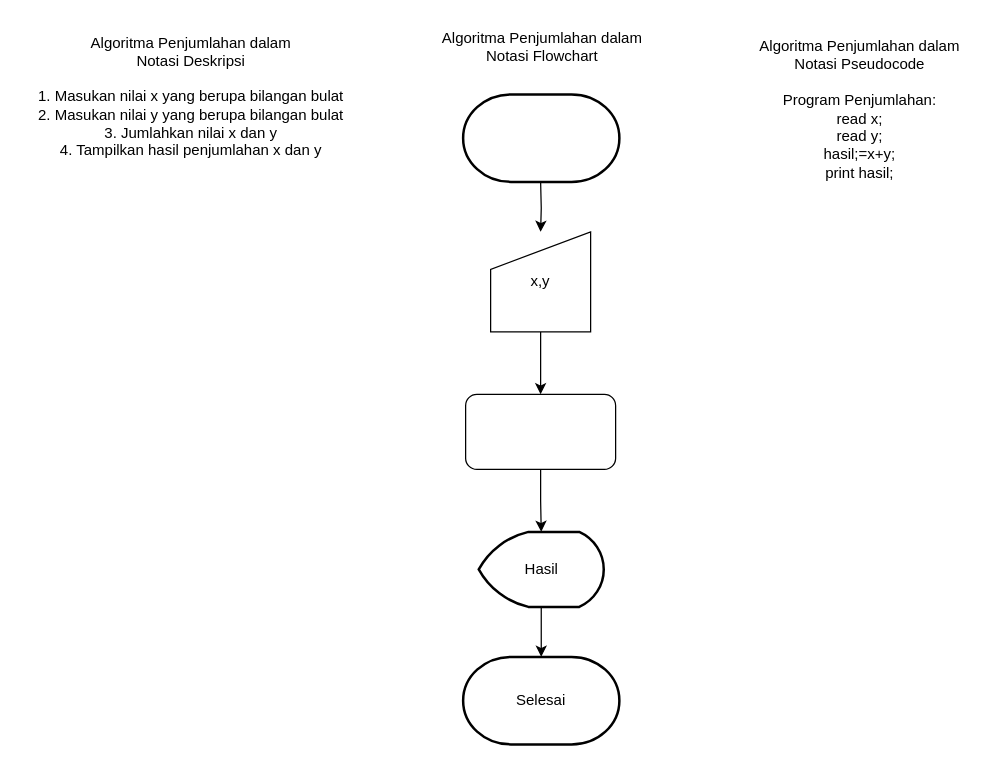
Some shapes in this 993 by 766 pixel diagram are drawn without their labels. Each missing label, with the centre of its shape:
Hasil = x+y: (540,431)
Mulai: (540,137)
